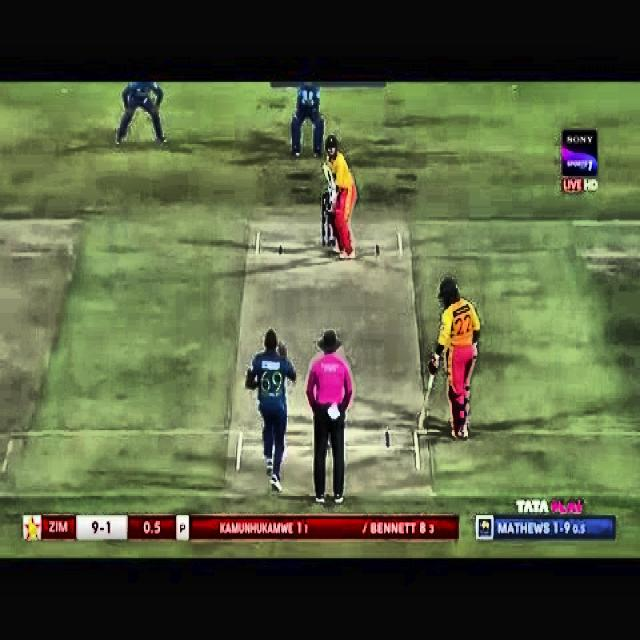Left-stump: (323, 196, 326, 246)
Middle-stump: (328, 218, 330, 245)
Right-stump: (334, 232, 336, 246)
